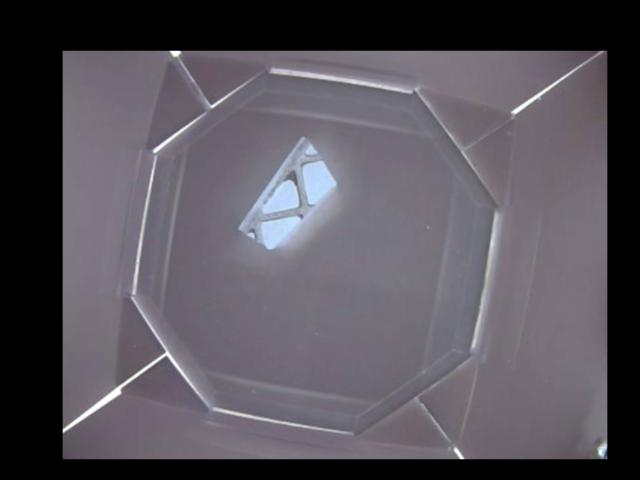China: (241, 136, 335, 249)
